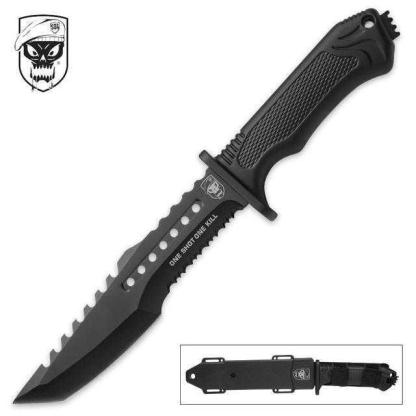Knife: (9, 9, 402, 411)
